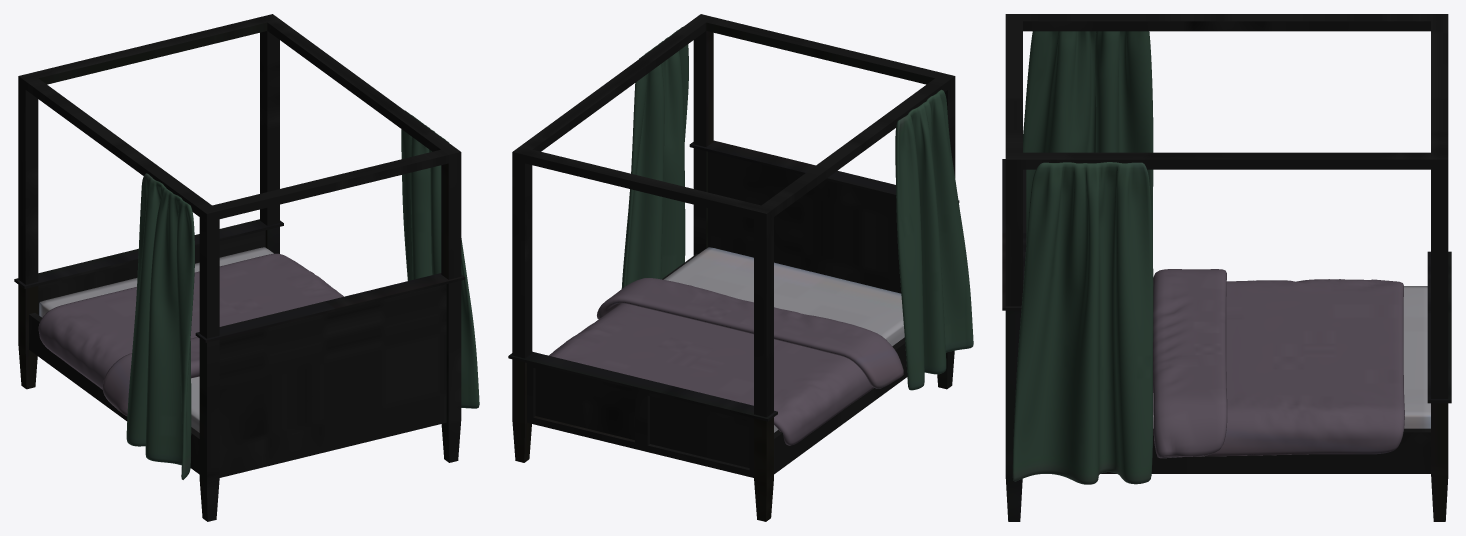
Rendered from Bed27.glb.
3 views of the same model, side by side, from view 1: azimuth 30°, elevation 25°; view 2: azimuth 150°, elevation 25°; view 3: azimuth 270°, elevation 25° (orthographic). The views are drawn at different scales.
Parts seen in each view (by area): view 1: BedFrame27, Curtain27_1, Blanket27, Curtain27_2, Mattress27; view 2: BedFrame27, Blanket27, Curtain27_1, Curtain27_2, Mattress27; view 3: Blanket27, Curtain27_2, BedFrame27, Curtain27_1, Mattress27.
Part boxes in pixels (box(x1,y1,x2,y2)): BedFrame27: box(14, 14, 465, 521); Curtain27_1: box(126, 173, 194, 479); Blanket27: box(38, 253, 343, 415); Curtain27_2: box(401, 110, 479, 408); Mattress27: box(39, 247, 273, 432); BedFrame27: box(508, 14, 959, 521); Blanket27: box(549, 278, 903, 445); Curtain27_1: box(895, 89, 973, 390); Curtain27_2: box(621, 27, 688, 288); Mattress27: box(664, 247, 904, 432); Blanket27: box(1153, 269, 1404, 458); Curtain27_2: box(1012, 162, 1153, 484); BedFrame27: box(1002, 14, 1451, 521); Curtain27_1: box(1023, 31, 1153, 250); Mattress27: box(1153, 286, 1430, 428).
Size of the model in its own units: 5.28 by 5.12 by 5.74.
3 materials, 3 textured.
